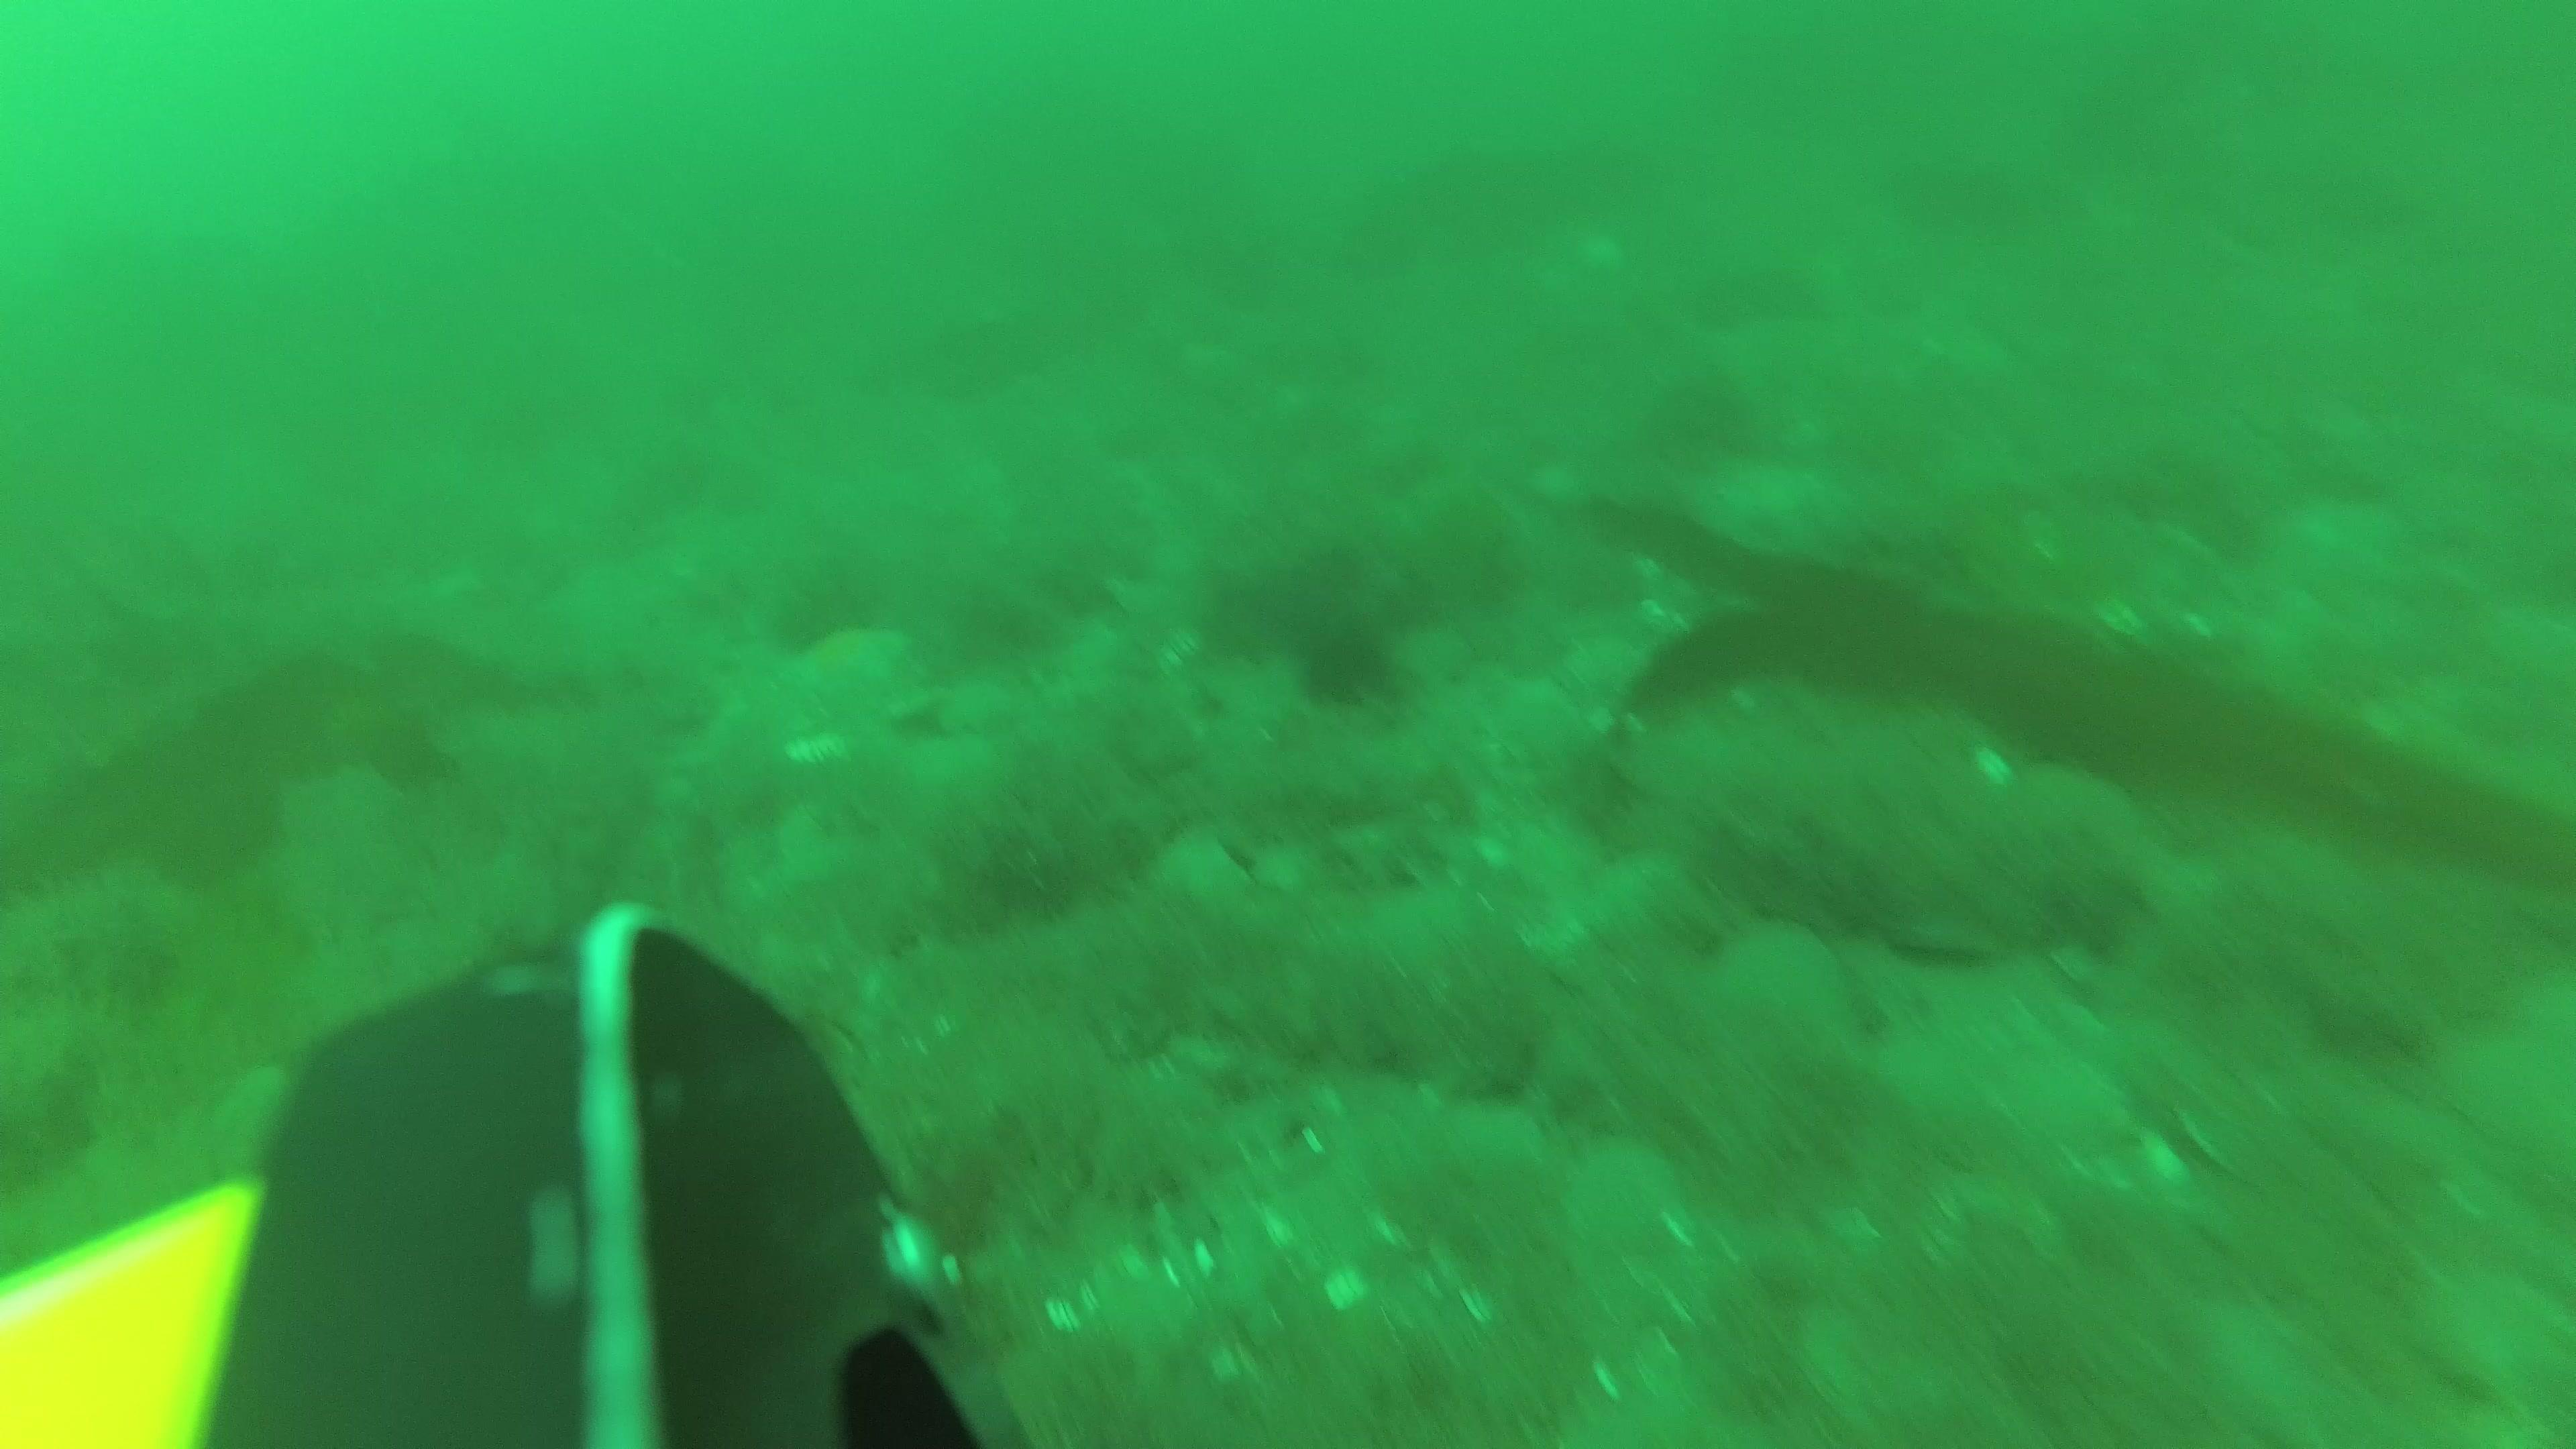echinus: (1297, 617, 1405, 711)
scallop: (1718, 911, 1838, 1039), (1568, 1134, 1683, 1258)
starfish: (794, 617, 915, 692)
